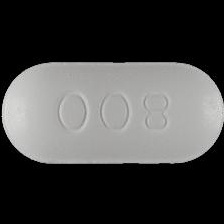10544-103: (0, 0, 224, 224)
